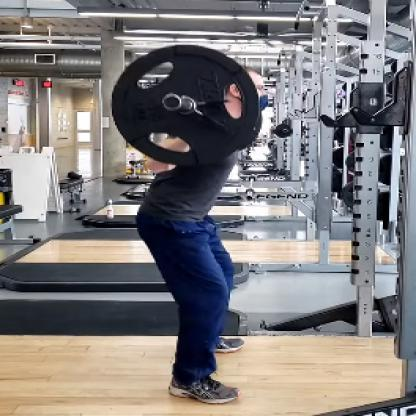barbell: (111, 45, 261, 166)
